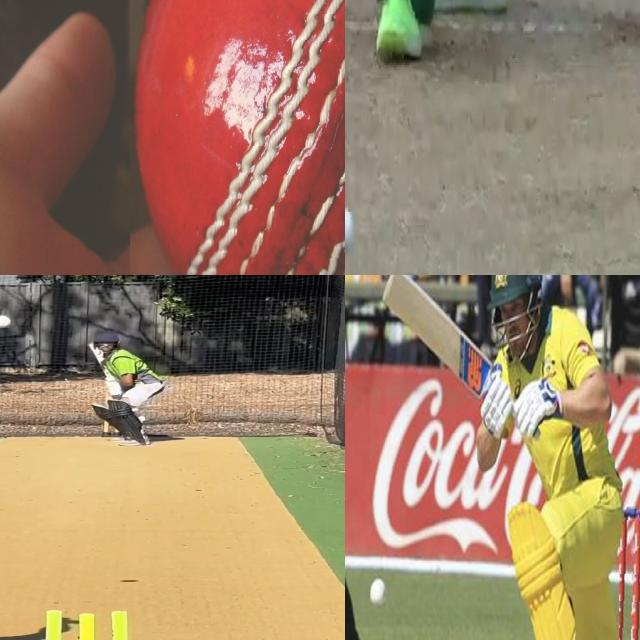Cricket ball: (129, 0, 345, 275), (368, 576, 388, 614), (345, 202, 357, 259), (0, 311, 17, 330)
Stumps: (618, 506, 640, 640)
